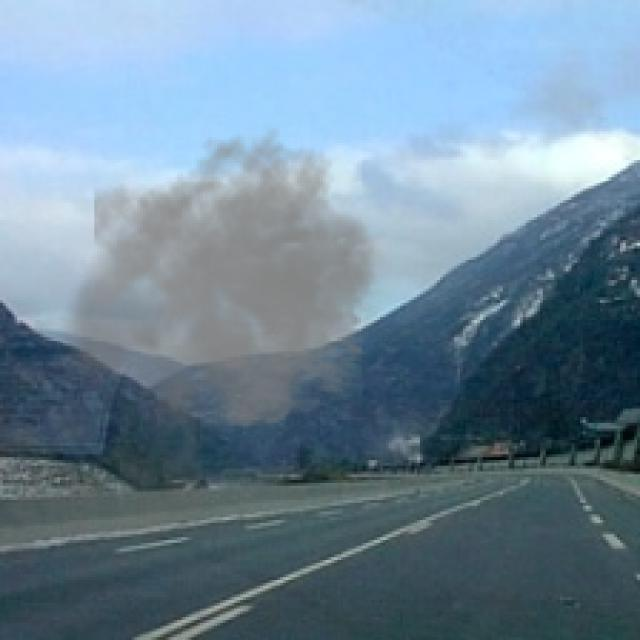Smoke: (51, 126, 400, 534)
